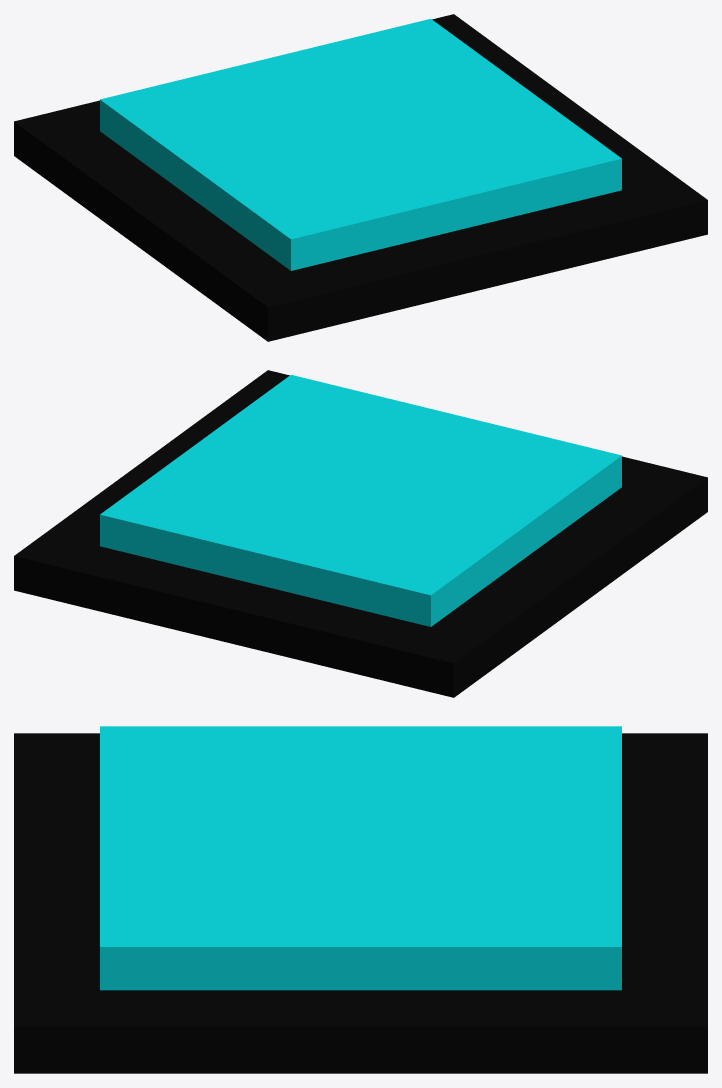
Rendered from PressurePlate.fbx.
The picture shows the model from 3 angles, top to bottom: view 1: azimuth 30°, elevation 25°; view 2: azimuth 150°, elevation 25°; view 3: azimuth 270°, elevation 25°; orthographic projection. The views are drawn at different scales.
Visible parts, largest first — view 1: PressurePlate, PressurePlateFrame; view 2: PressurePlate, PressurePlateFrame; view 3: PressurePlate, PressurePlateFrame.
Boxes of the visible parts, <box> form: PressurePlate: <box>100,19,621,270</box>; PressurePlateFrame: <box>14,14,707,341</box>; PressurePlate: <box>100,375,621,626</box>; PressurePlateFrame: <box>14,370,707,697</box>; PressurePlate: <box>100,726,621,990</box>; PressurePlateFrame: <box>14,733,707,1073</box>.
Bounding box in the file's own units: 200 × 200 × 28.75.
